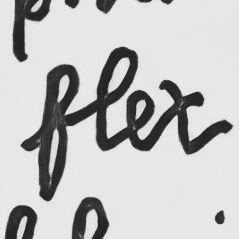e: (124, 88, 157, 156)
f: (34, 60, 84, 203)
l: (93, 45, 140, 154)
x: (158, 77, 208, 158)
